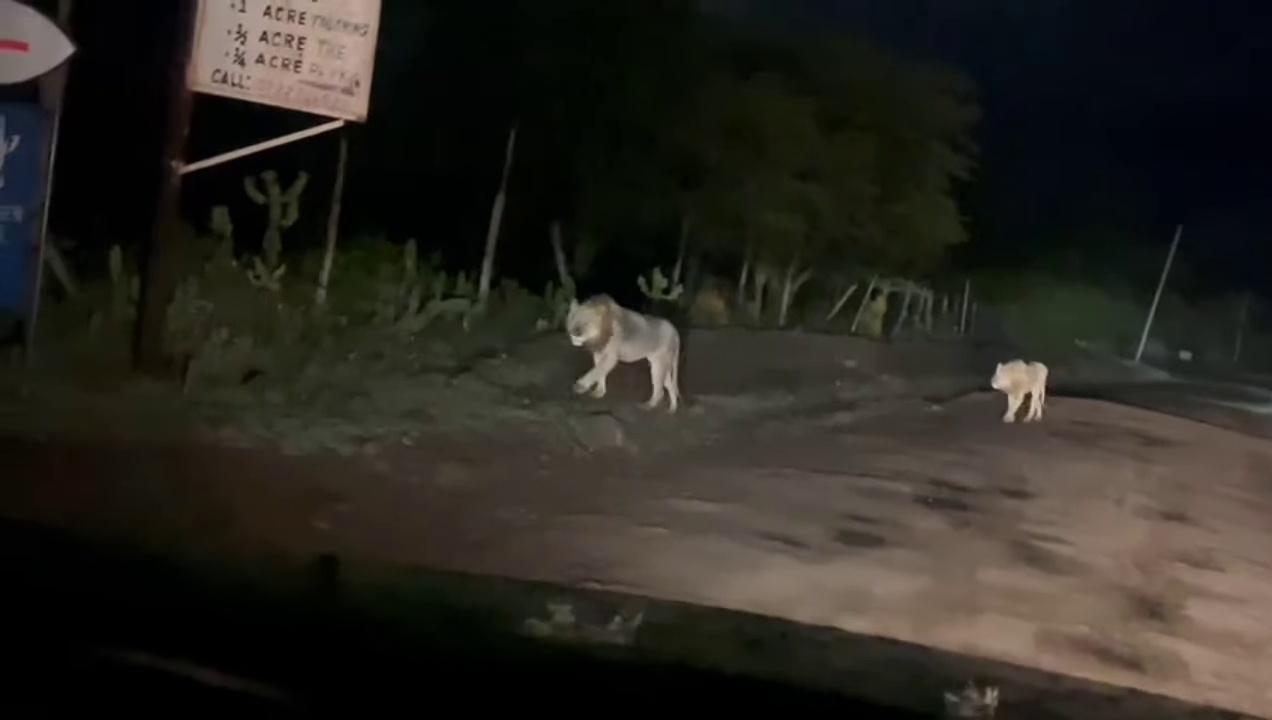lions: (562, 279, 697, 428), (976, 349, 1075, 445)
